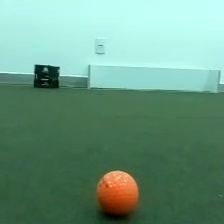ball: (93, 168, 140, 218)
goal: (84, 61, 223, 95)
robot: (32, 61, 61, 89)
